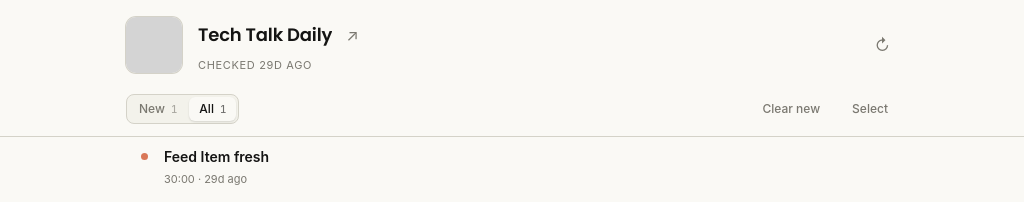
FeedView › keeps acknowledgement failures local and leaves the Item New
Click the button "Feed Item fresh 30:00 · 29d ago" at (205, 166), box [140, 148, 269, 186]
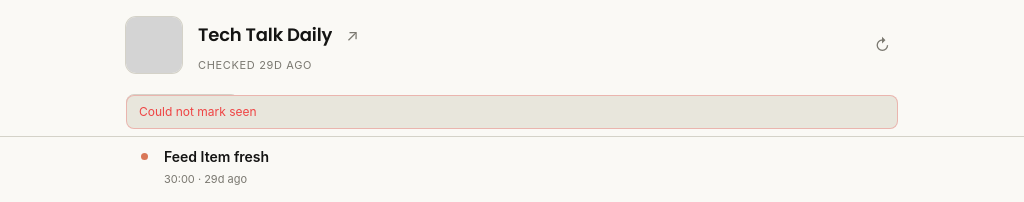
Expected: the element named "New" is shown, [140, 153, 148, 160]
Result: the message reads "Could not mark seen" at [139, 104, 257, 118]
